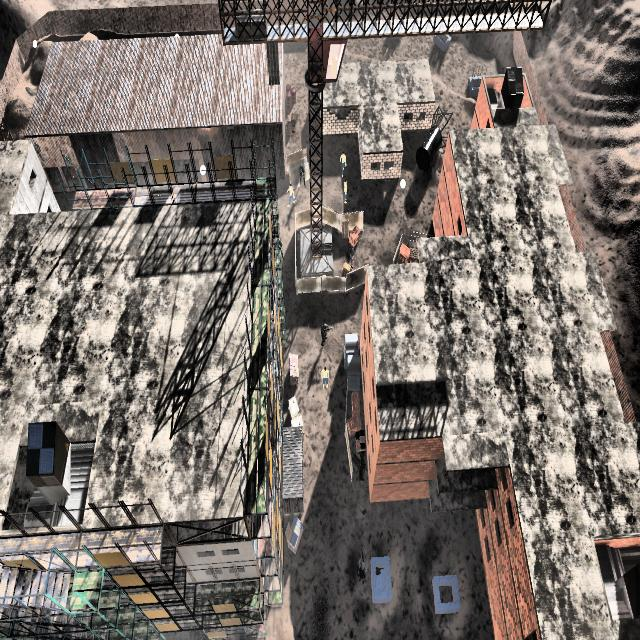bad: (315, 310, 334, 355), (353, 549, 369, 591), (298, 159, 306, 192)
good: (338, 139, 349, 179), (338, 178, 351, 208), (284, 179, 297, 209), (321, 358, 331, 394)
